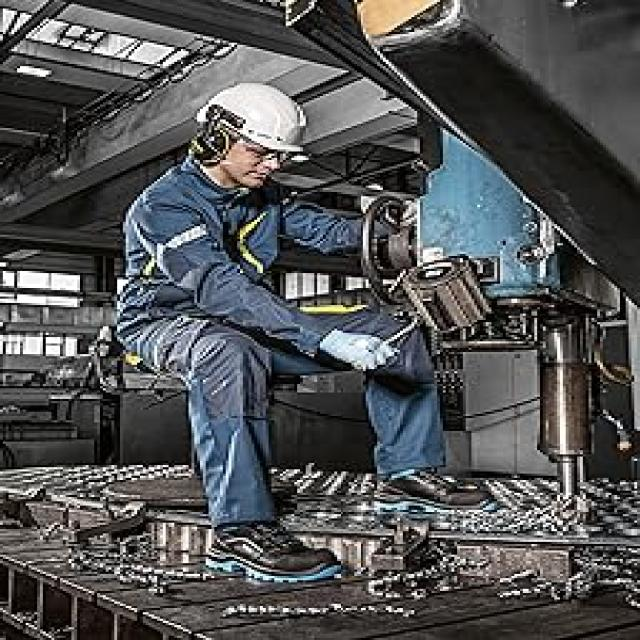shoes: (202, 516, 351, 586), (372, 466, 499, 522)
